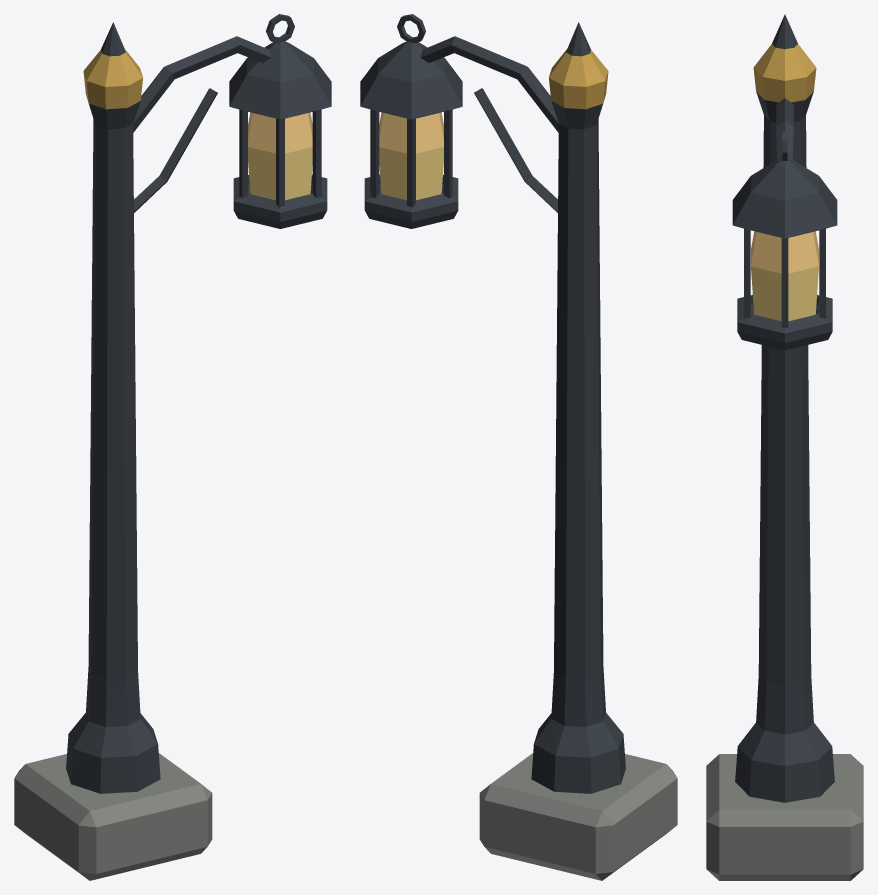
The model's file is StreetLamp.obj.
3 views of the same model, side by side, from view 1: azimuth 30°, elevation 25°; view 2: azimuth 150°, elevation 25°; view 3: azimuth 270°, elevation 25° (orthographic). The views are drawn at different scales.
Bounding box in the file's own units: 2.56 × 7.05 × 1.2.
